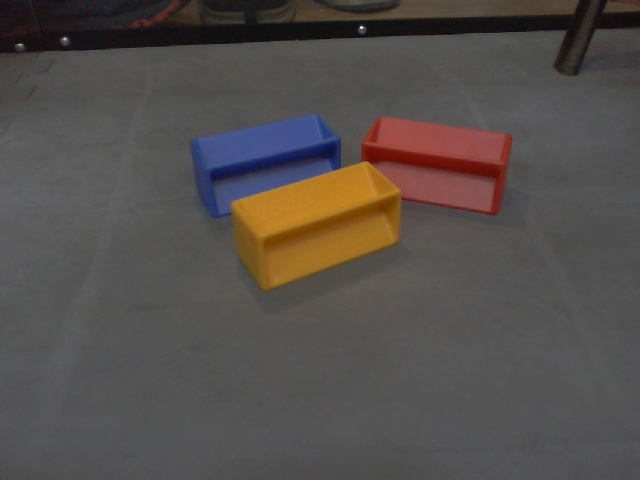BlueSample: (189, 113, 344, 219)
RedSample: (358, 115, 513, 218)
YellowSample: (228, 160, 402, 292)
